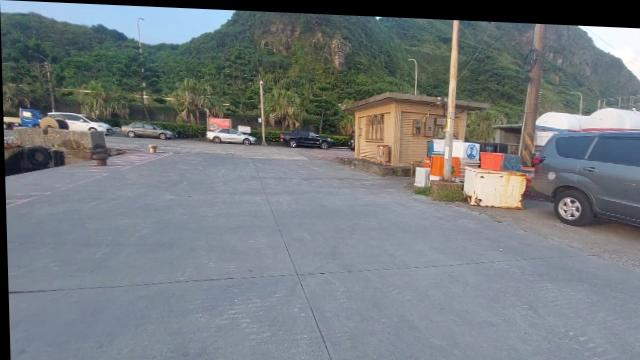pollute: (462, 162, 528, 203), (451, 135, 478, 176), (479, 147, 519, 166), (429, 152, 441, 175), (414, 165, 428, 182), (432, 136, 446, 151), (452, 154, 459, 179), (423, 154, 430, 164)
